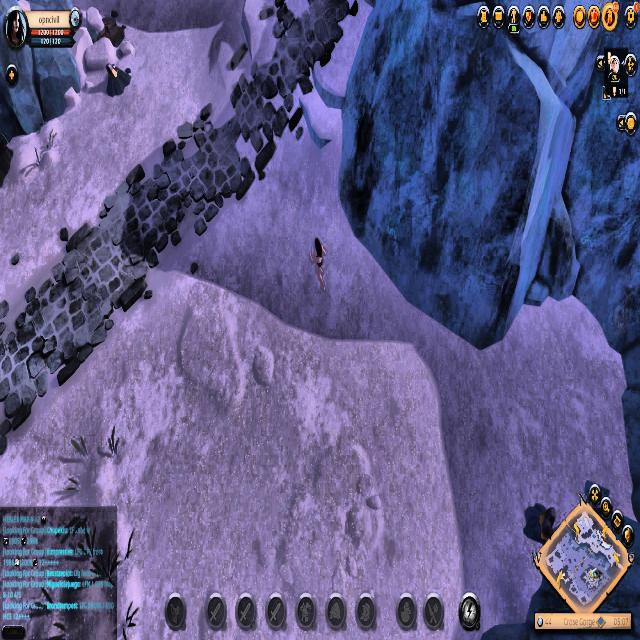copper_ore: (525, 492, 556, 548), (105, 58, 134, 102)
